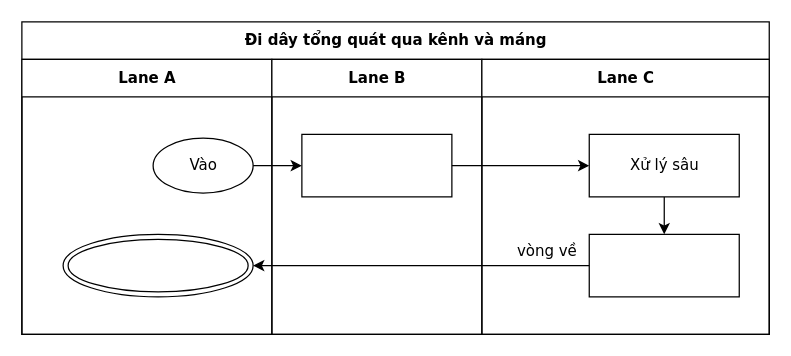
This 791x356 diagram has some shape labels left out. The shapes that lost their labels are listed below. From the top down, each one's box as (x1, y1, x2, y2) in pixels, then its label:
(301, 133, 452, 197): Điều phối
(62, 233, 253, 297): Nhận kết quả
(588, 233, 739, 297): Ghi kết quả
